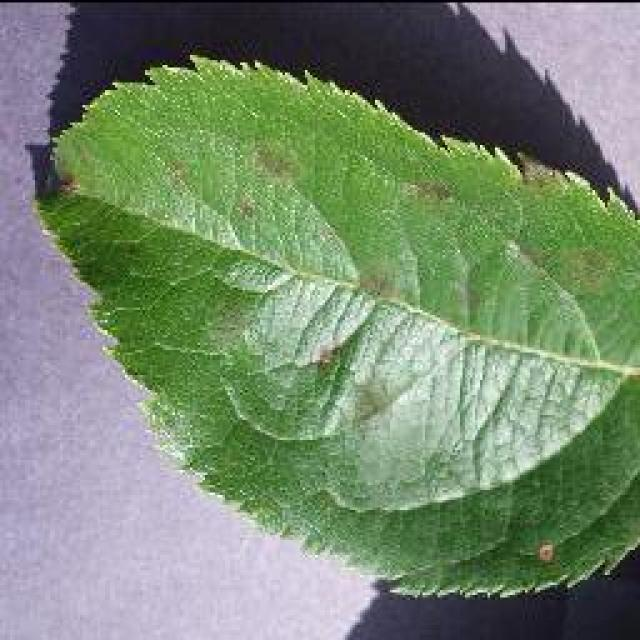Apple___Apple_scab: (28, 51, 638, 602)
